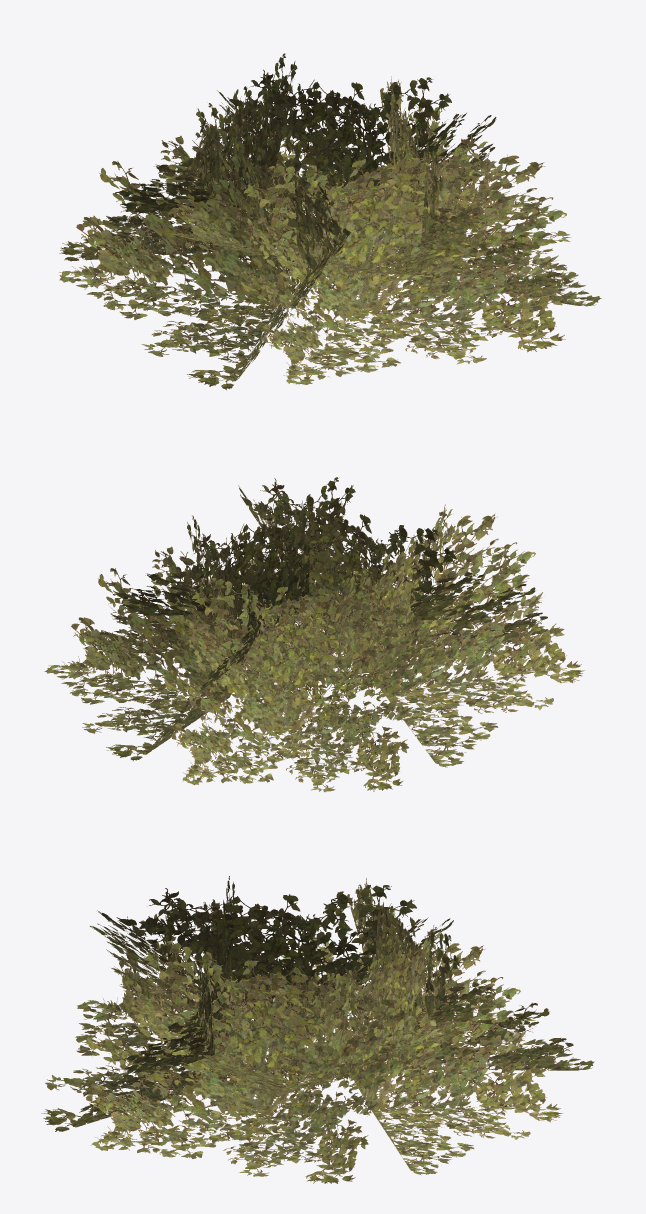
Rendered from shrb_giantlickbush_ltgreen_l2.fbx.
The picture shows the model from 3 angles, top to bottom: view 1: azimuth 30°, elevation 25°; view 2: azimuth 150°, elevation 25°; view 3: azimuth 270°, elevation 25°; orthographic projection. The views are drawn at different scales.
Visible parts, largest first — view 1: mesh_node; view 2: mesh_node; view 3: mesh_node.
Part boxes in pixels (x1,y1,x2,y2): mesh_node: (59, 53, 601, 390); mesh_node: (44, 477, 584, 792); mesh_node: (41, 876, 594, 1183).
Bounding box in the file's own units: 6.53 × 2.31 × 7.23.
